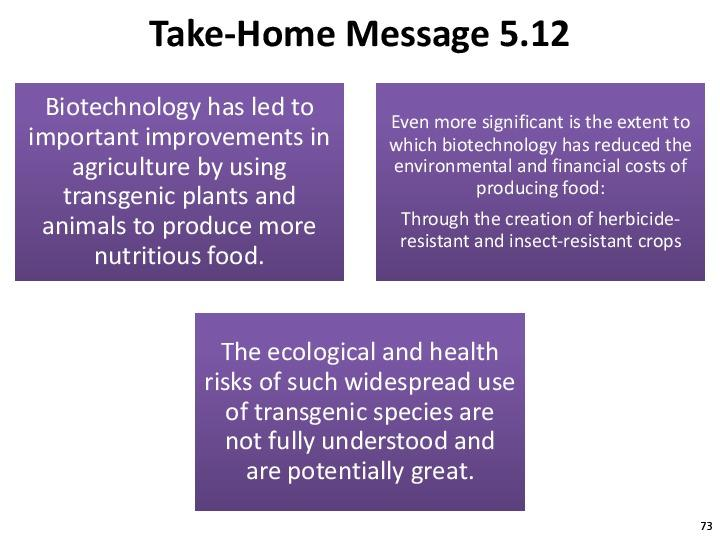paragraph: (12, 73, 715, 534)
title: (148, 4, 584, 63)
